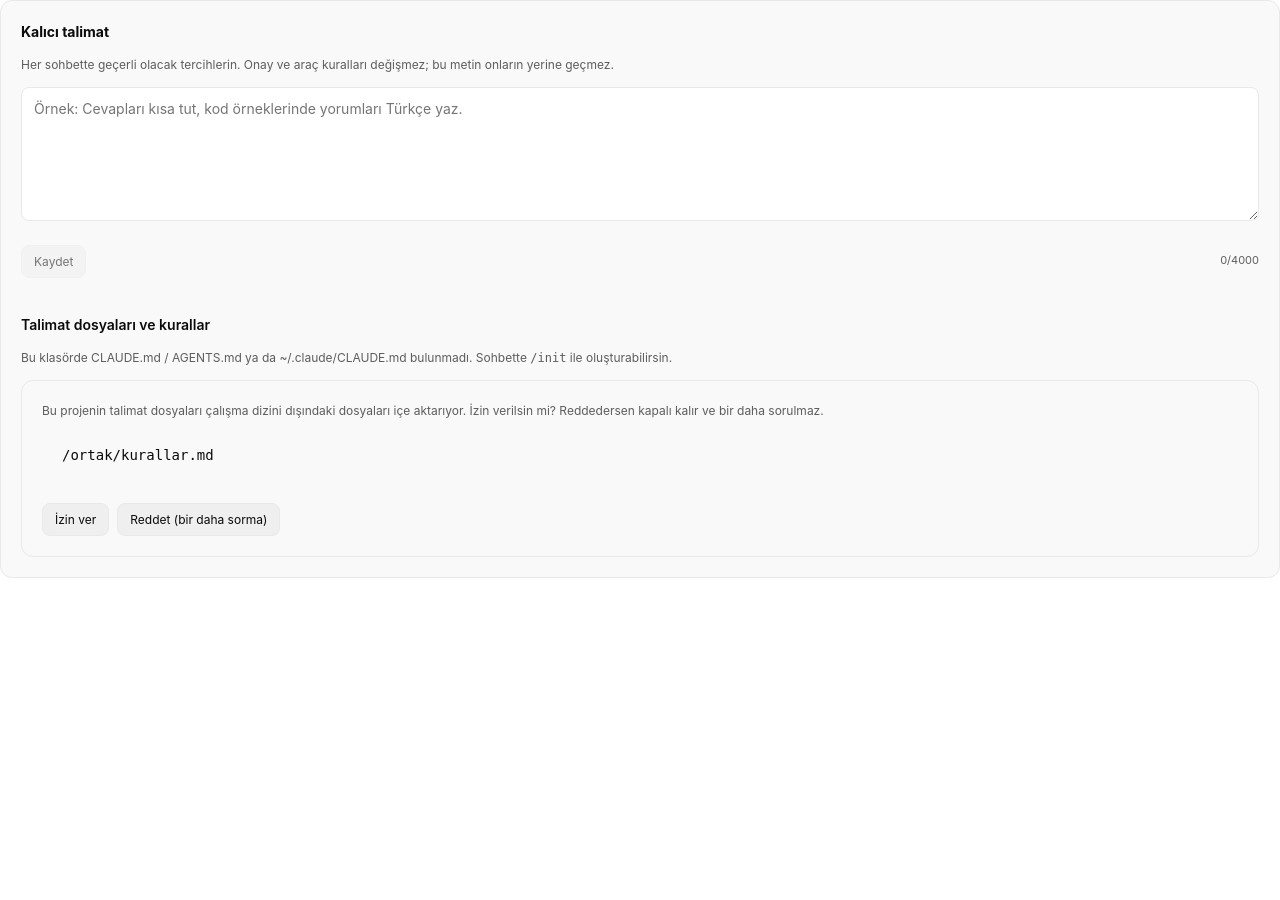
Test: kararı verilmemiş dış importları listeler ve onayı gönderir
Check: the text "/ortak/kurallar.md" is shown, box [62,448,214,464]
Click the button "İzin ver": [76, 520] box [42,503,109,536]
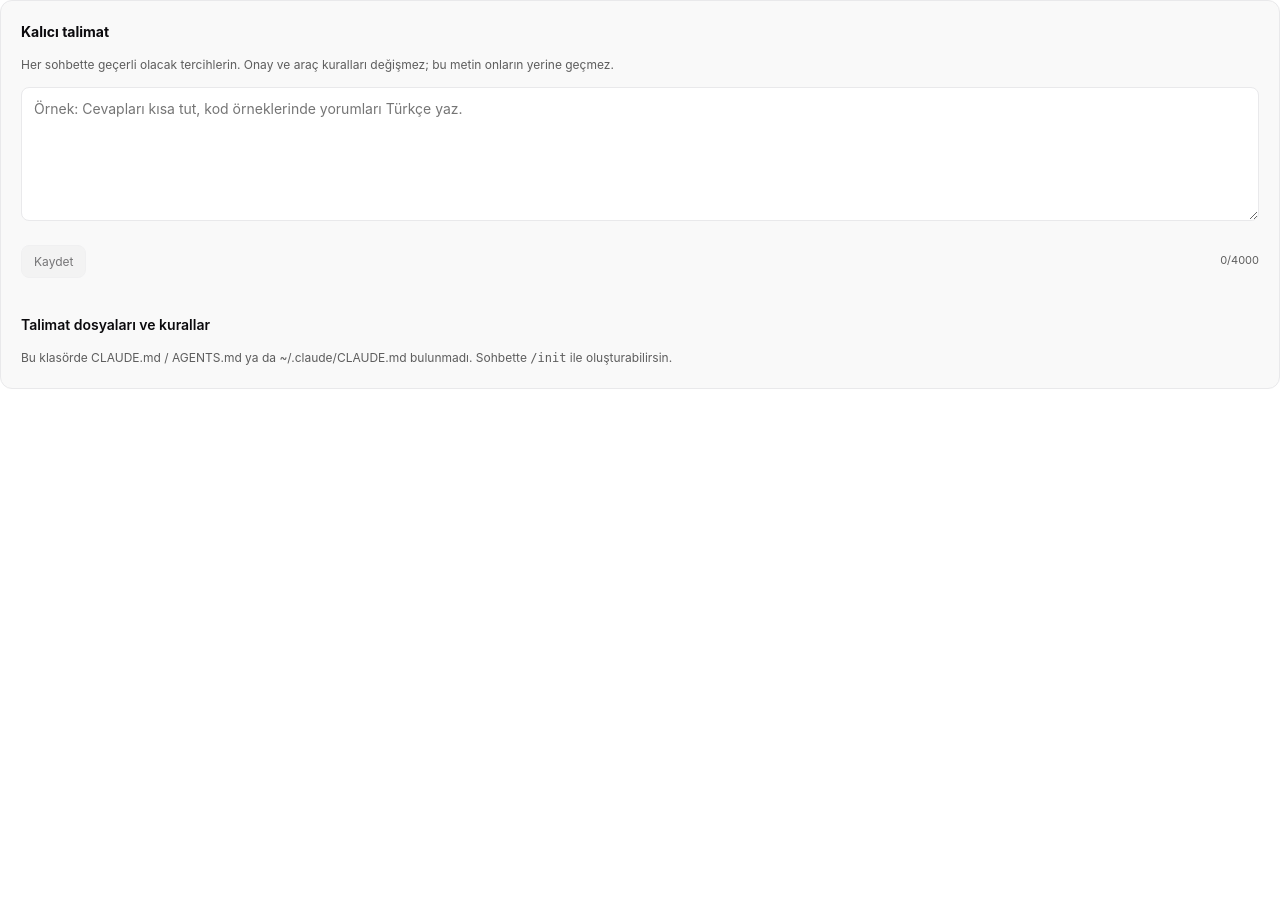
Check: the text "/ortak/kurallar.md" is gone
